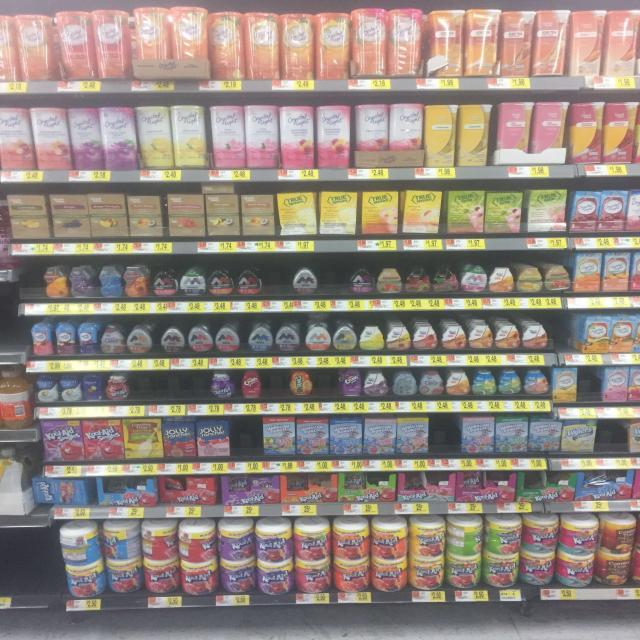empty: (3, 529, 68, 594), (123, 369, 210, 401), (592, 413, 630, 468), (230, 416, 268, 465), (428, 416, 462, 466), (577, 370, 607, 411), (315, 255, 340, 301), (262, 258, 287, 301), (11, 263, 42, 296)
